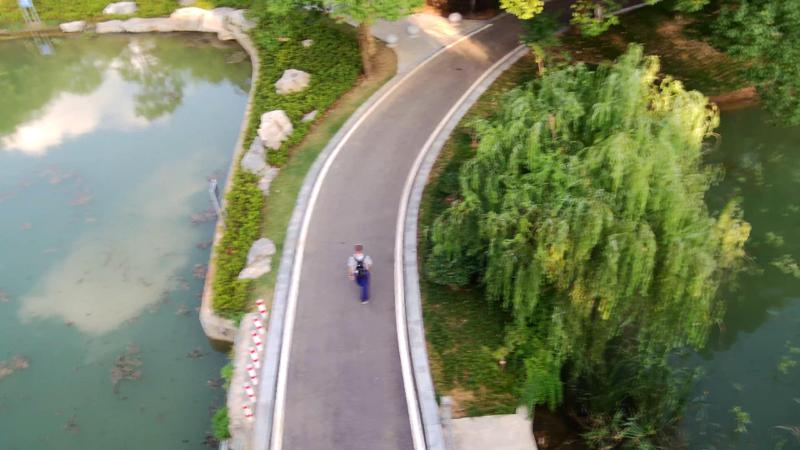passerby: (347, 242, 375, 304)
